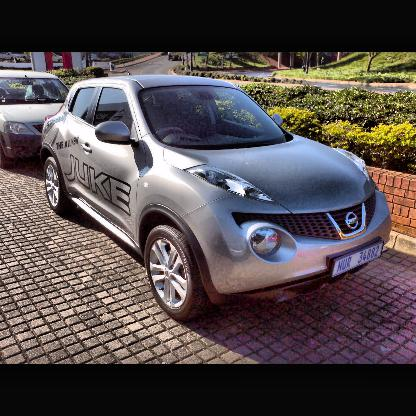Nissan Juke Hatchback 2012: (39, 75, 391, 322)
